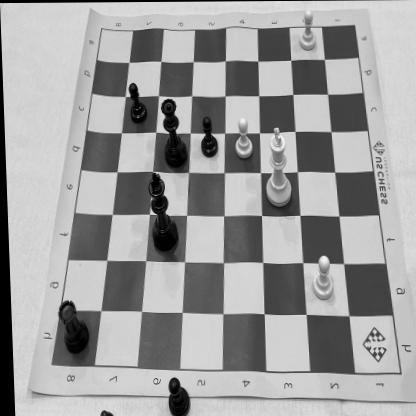black-king: (143, 170, 180, 256)
black-pawn: (197, 114, 220, 162), (126, 78, 148, 124)
black-queen: (159, 89, 187, 171)
black-rook: (55, 296, 92, 357)
white-king: (261, 124, 296, 211)
white-pawn: (306, 252, 337, 303), (295, 8, 320, 54), (232, 113, 256, 160)
